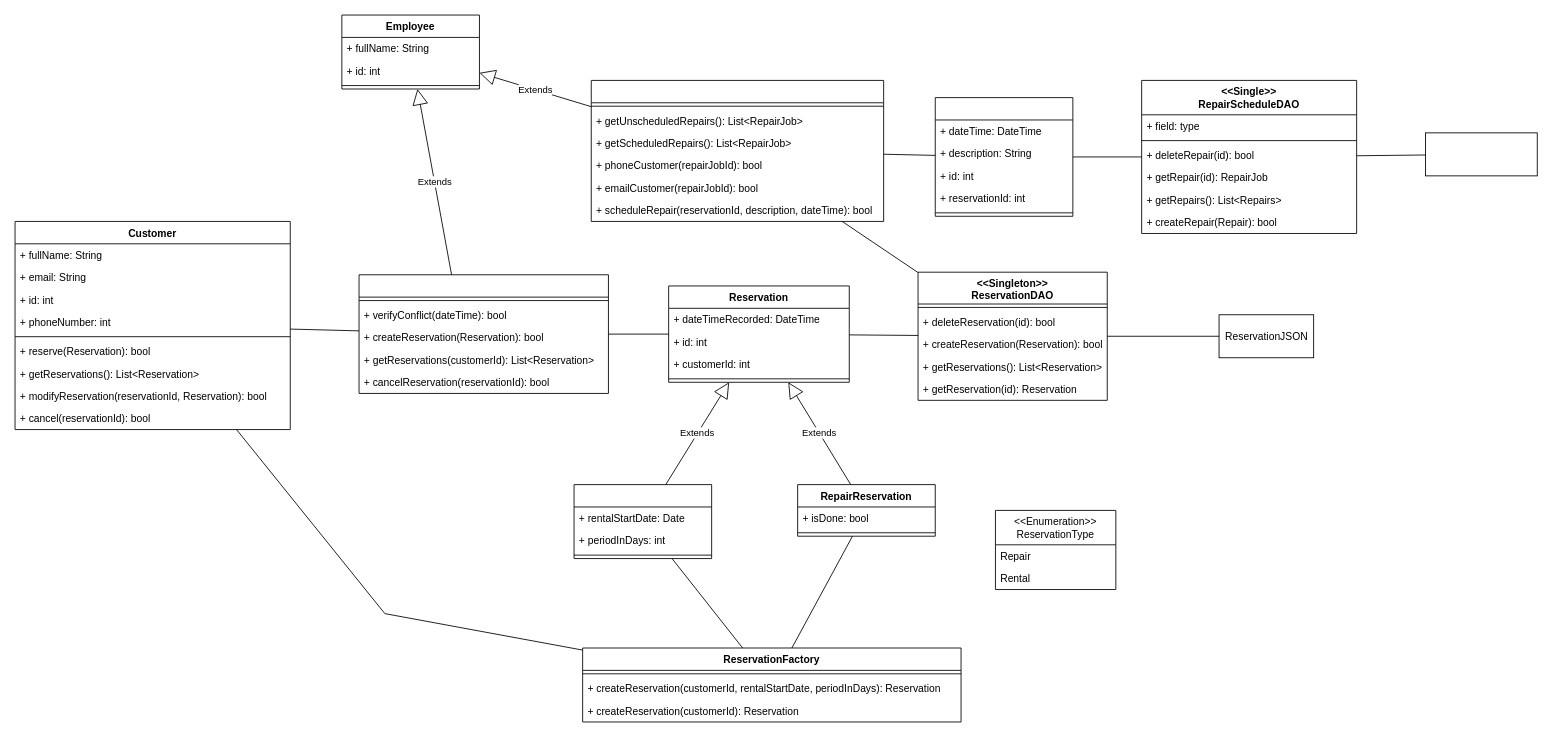
Image size: 1552x740. Some labels were removed from this diagram. Each missing label, with the box of its shape:
Mechanic: (590, 80, 884, 221)
RentalReservation: (573, 484, 712, 559)
RepairJob: (934, 97, 1073, 216)
RepairScheduleJSON: (1425, 132, 1537, 176)
Staff: (358, 274, 608, 393)
